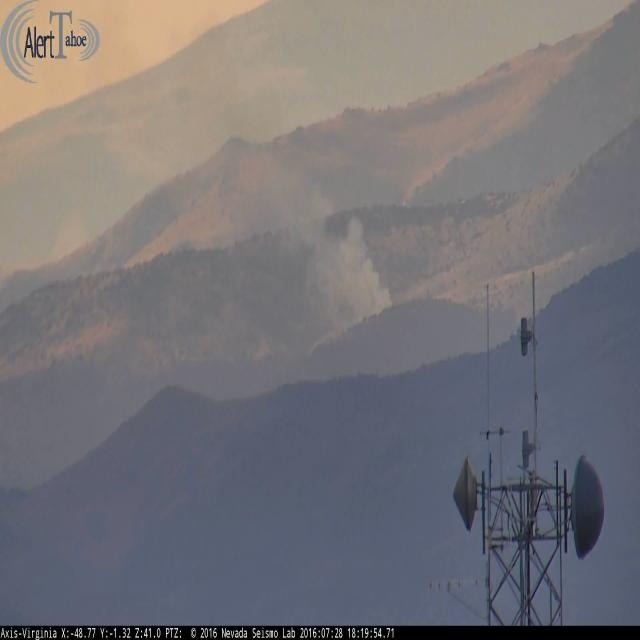smoke: (278, 167, 393, 321)
